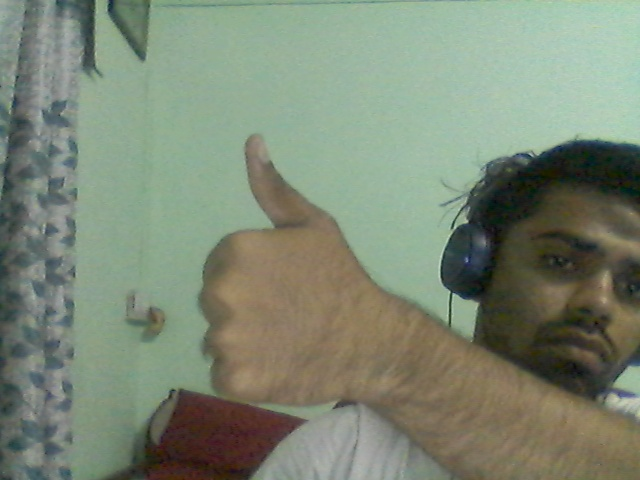Yes: (156, 93, 438, 449)
